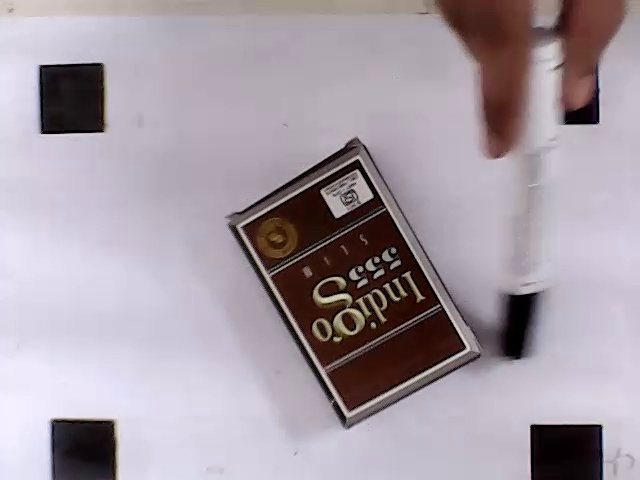BEX: (237, 156, 467, 415)
